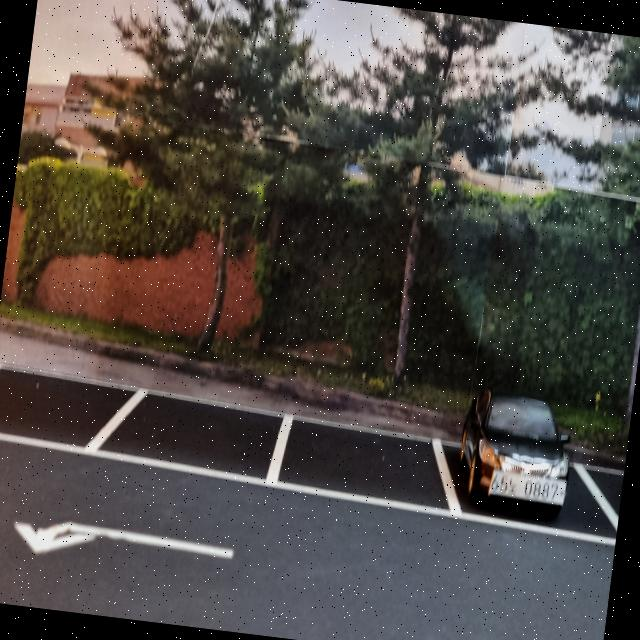empty: (96, 382, 295, 496), (272, 416, 458, 522), (0, 358, 126, 465)
occupied: (452, 388, 580, 528)
